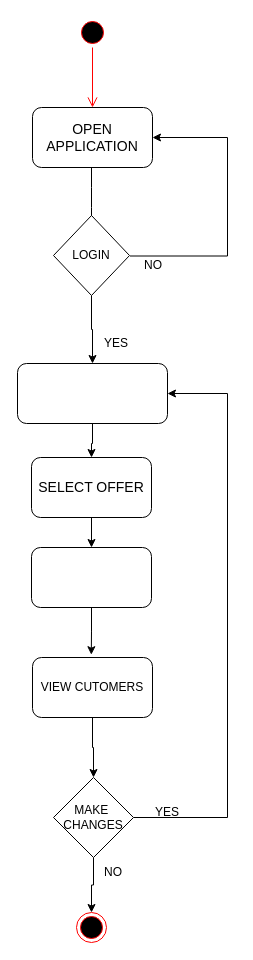
Some shapes in this 253 by 960 pixel diagram are drawn without their labels. The shapes that lost their labels are listed below. From the top down, each one's centre as x and y in pixels, then its label:
At (x=92, y=393): "MANAGE OFFERS".
At (x=91, y=577): "VIEW RESERVATIONS".
